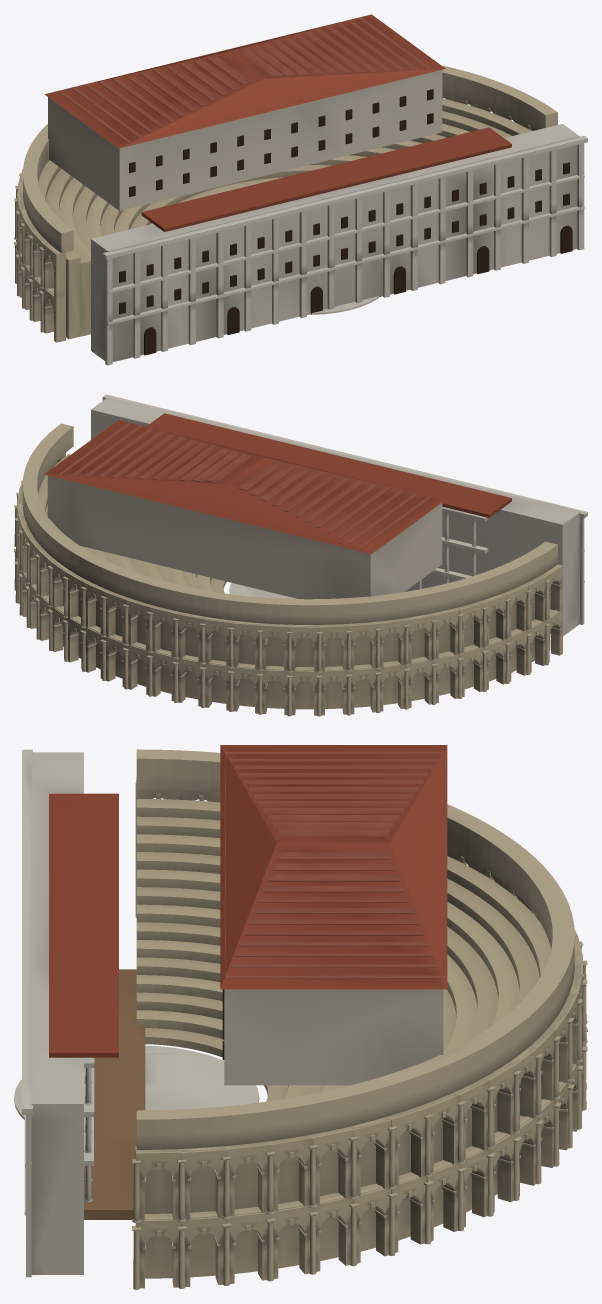
Rendered from theatre-of-marcellus-palazzo.glb.
3 renders of one model, top to bottom at view 1: azimuth 30°, elevation 25°; view 2: azimuth 150°, elevation 25°; view 3: azimuth 270°, elevation 25°, orthographic. The views are drawn at different scales.
Parts seen in each view (by area): view 1: p2_stage, p1_facade, p0_cavea; view 2: p2_stage, p1_facade, p0_cavea; view 3: p2_stage, p1_facade, p0_cavea.
Boxes of the visible parts, <box> form: p2_stage: <box>44,14,587,365</box>; p1_facade: <box>14,65,557,342</box>; p0_cavea: <box>38,98,531,339</box>; p2_stage: <box>44,394,587,636</box>; p1_facade: <box>14,423,562,716</box>; p0_cavea: <box>38,454,550,709</box>; p2_stage: <box>22,745,447,1277</box>; p1_facade: <box>131,749,587,1289</box>; p0_cavea: <box>14,799,550,1278</box>.
Size of the model in its own units: 134 by 42.06 by 85.16.
